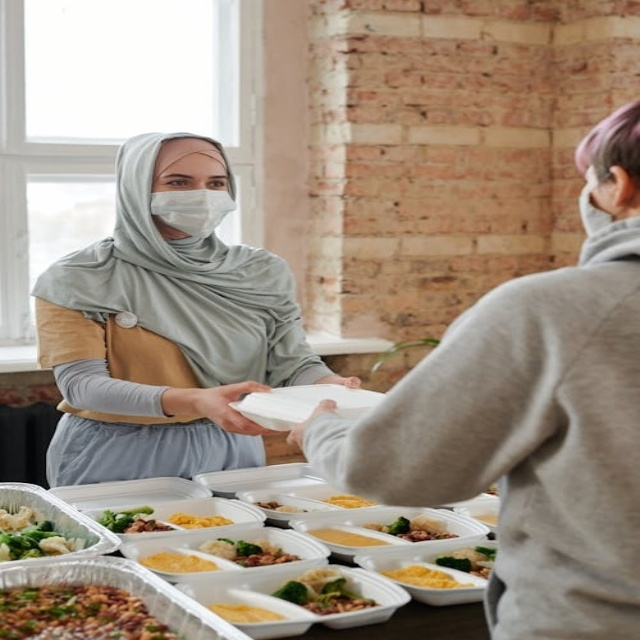Mascara: (147, 187, 237, 238), (577, 181, 624, 254)
Sin_gafas: (159, 172, 229, 193)
Sin_guantes: (195, 378, 282, 437)
